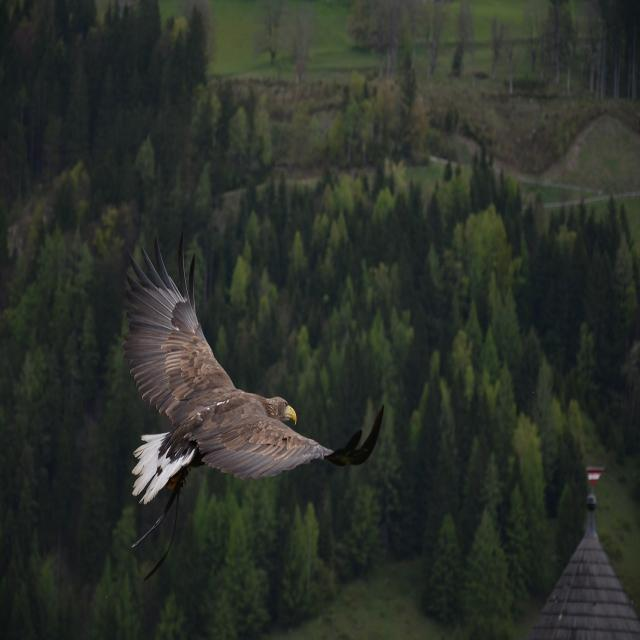bird: (110, 265, 380, 537)
